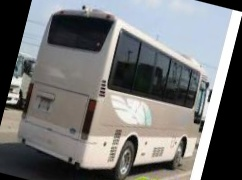bus: (6, 0, 220, 180)
